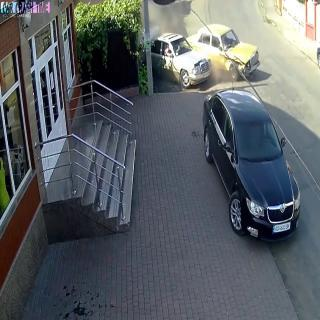Vehicle-Crash_Detected: (167, 29, 245, 82)
